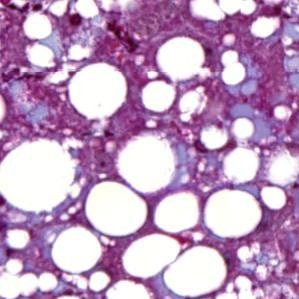steatosis: (66, 63, 133, 120), (83, 180, 145, 238), (208, 188, 262, 241), (124, 235, 182, 278), (158, 39, 208, 78), (152, 192, 201, 229)
